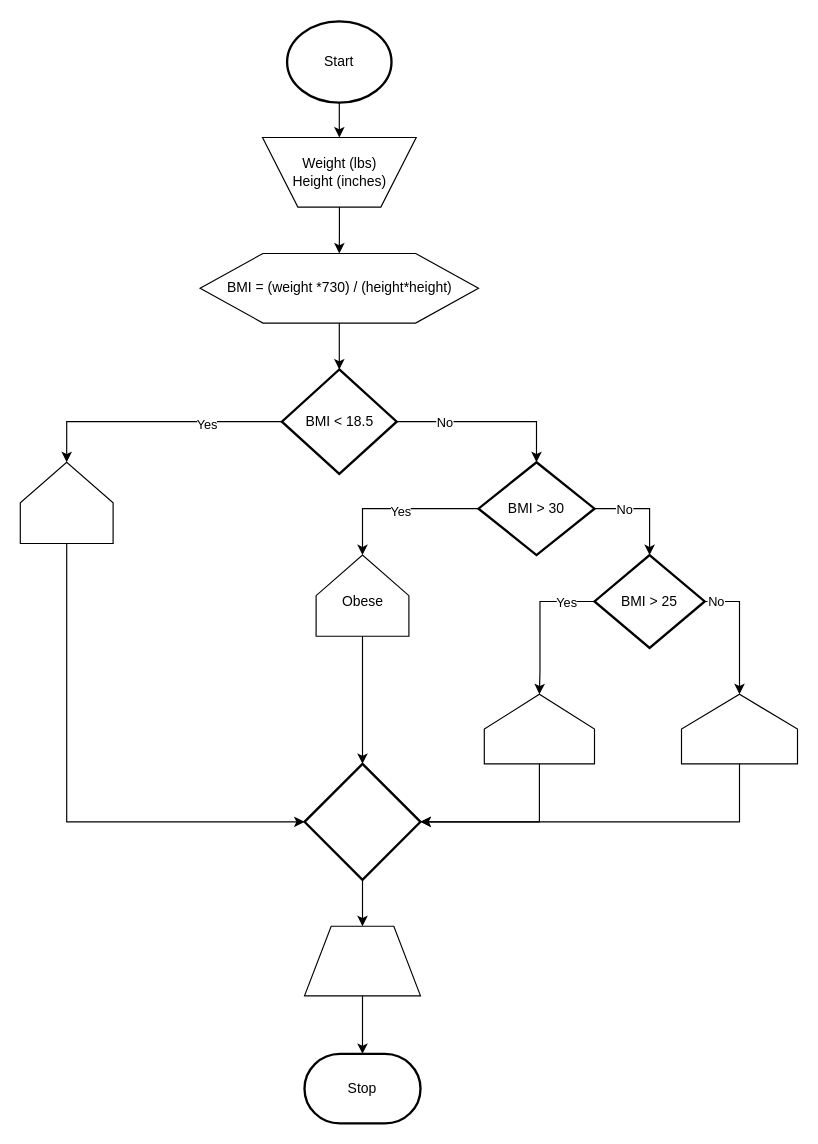
Some shapes in this 818 by 1144 pixel diagram are drawn without their labels. The shapes that lost their labels are listed below. From the top down, each one's box as (x1, y1, x2, y2) in pixels, then its label:
(19, 461, 113, 543): Underweight
(483, 693, 594, 764): Overweight
(680, 693, 798, 764): Normal weight
(303, 925, 420, 996): BMI
